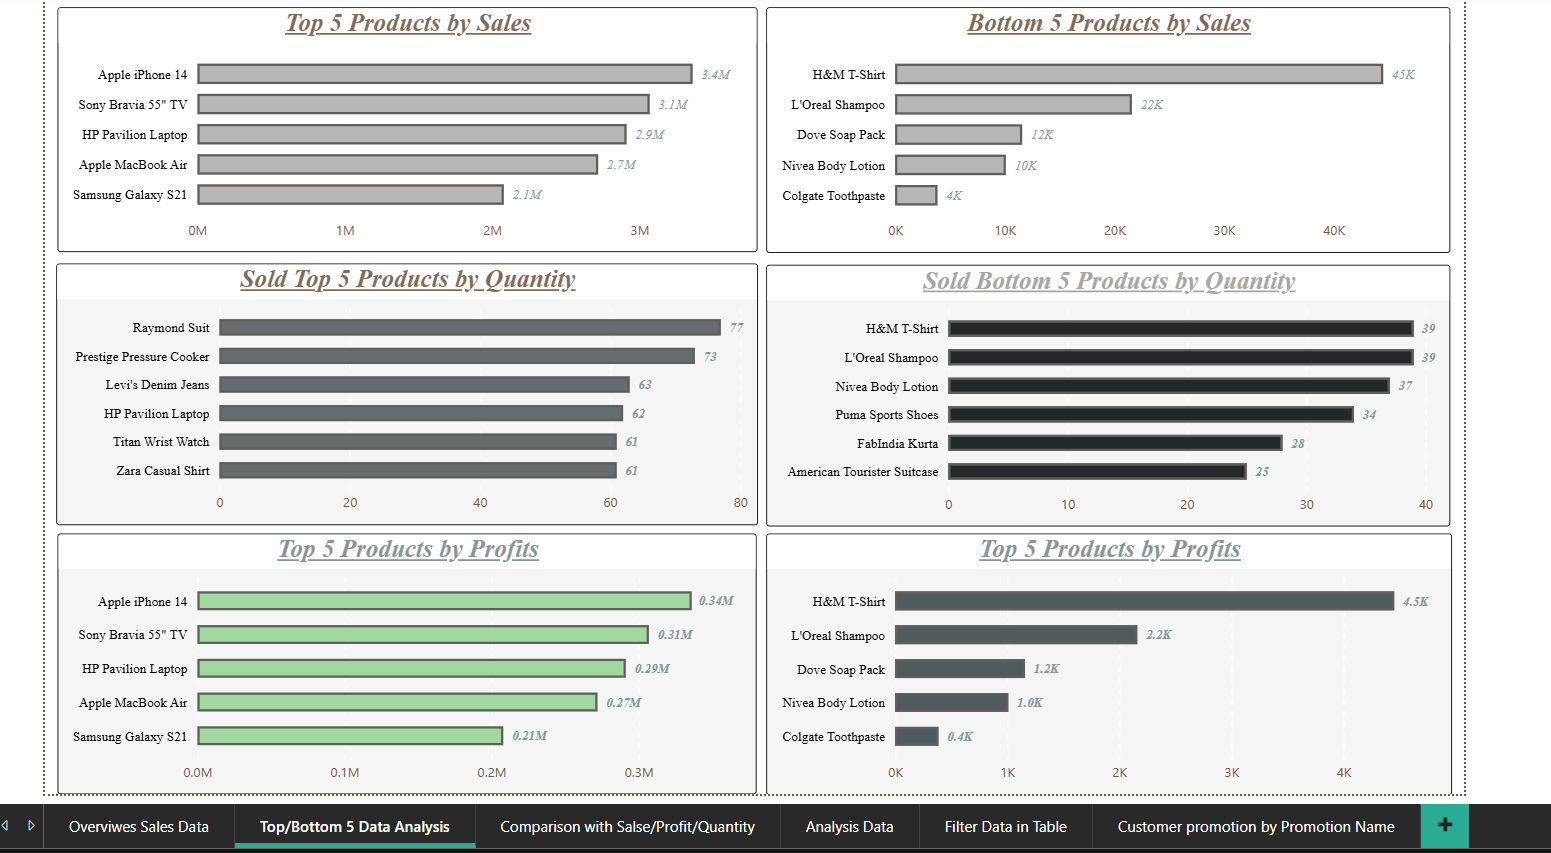

The page's visual inventory and layout, read from the dashboard file:
{"tool":"powerbi","page":{"name":"Top/Bottom 5 Data Analysis","canvas":[1280,720],"ordinal":1},"visuals":[{"type":"barChart","title":"Top 5 Products by Sales","fields":{"Category":["Dim Product.Product Name"],"Y":["Sum(Fact Table.Net Sales)"]},"box":[11.4,10,630.9,220.7],"z":0},{"type":"barChart","title":"Bottom 5 Products by Sales","fields":{"Category":["Dim Product.Product Name"],"Y":["Sum(Fact Table.Net Sales)"]},"box":[650.6,10,617,221.4],"z":1000},{"type":"barChart","title":"Sold Top 5 Products by Quantity","fields":{"Category":["Dim Product.Product Name"],"Y":["Sum(Fact Table.Units Sold)"]},"box":[10,241.4,632.9,235.7],"z":2000},{"type":"barChart","title":"Sold Bottom 5 Products by Quantity","fields":{"Category":["Dim Product.Product Name"],"Y":["Sum(Fact Table.Units Sold)"]},"box":[650,242.9,617.1,235.7],"z":3000},{"type":"barChart","title":" Top 5 Products by Profits","fields":{"Category":["Dim Product.Product Name"],"Y":["Sum(Fact Table.Profit)"]},"box":[11.2,485.1,630.7,235.1],"z":4000},{"type":"barChart","title":"Top 5 Products by Profits","fields":{"Category":["Dim Product.Product Name"],"Y":["Sum(Fact Table.Profit)"]},"box":[650.3,484.5,618.3,235.7],"z":5000}]}

Visuals, with their boxes on the page's 1280x720 design canvas (x1, y1, x2, y2). These are canvas units, not pixel positions in the 1551x853 screenshot, which may show the page scaled, cropped or inside an application window:
"Top 5 Products by Sales" barChart: locate(11, 10, 642, 231)
"Bottom 5 Products by Sales" barChart: locate(651, 10, 1268, 231)
"Sold Top 5 Products by Quantity" barChart: locate(10, 241, 643, 477)
"Sold Bottom 5 Products by Quantity" barChart: locate(650, 243, 1267, 479)
" Top 5 Products by Profits" barChart: locate(11, 485, 642, 720)
"Top 5 Products by Profits" barChart: locate(650, 484, 1269, 720)
